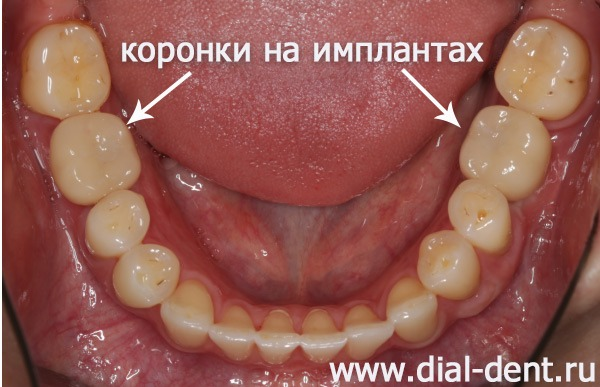LL1BC_healthy: (419, 232, 479, 297)
LL1M_healthy: (467, 110, 550, 191)
LL2BC_healthy: (448, 180, 511, 253)
LL2M_healthy: (499, 23, 587, 116)
LLCI_healthy: (300, 311, 344, 363)
LLC_healthy: (388, 283, 437, 340)
LLLI_healthy: (346, 309, 392, 355)
LR1BC_decay: (114, 247, 178, 304)
LR1M_healthy: (50, 114, 139, 200)
LR2BC_healthy: (88, 192, 150, 254)
LR2M_healthy: (33, 23, 108, 116)
LRCI_healthy: (258, 313, 297, 363)
LRC_healthy: (167, 281, 212, 345)
LRLI_healthy: (214, 308, 255, 358)
